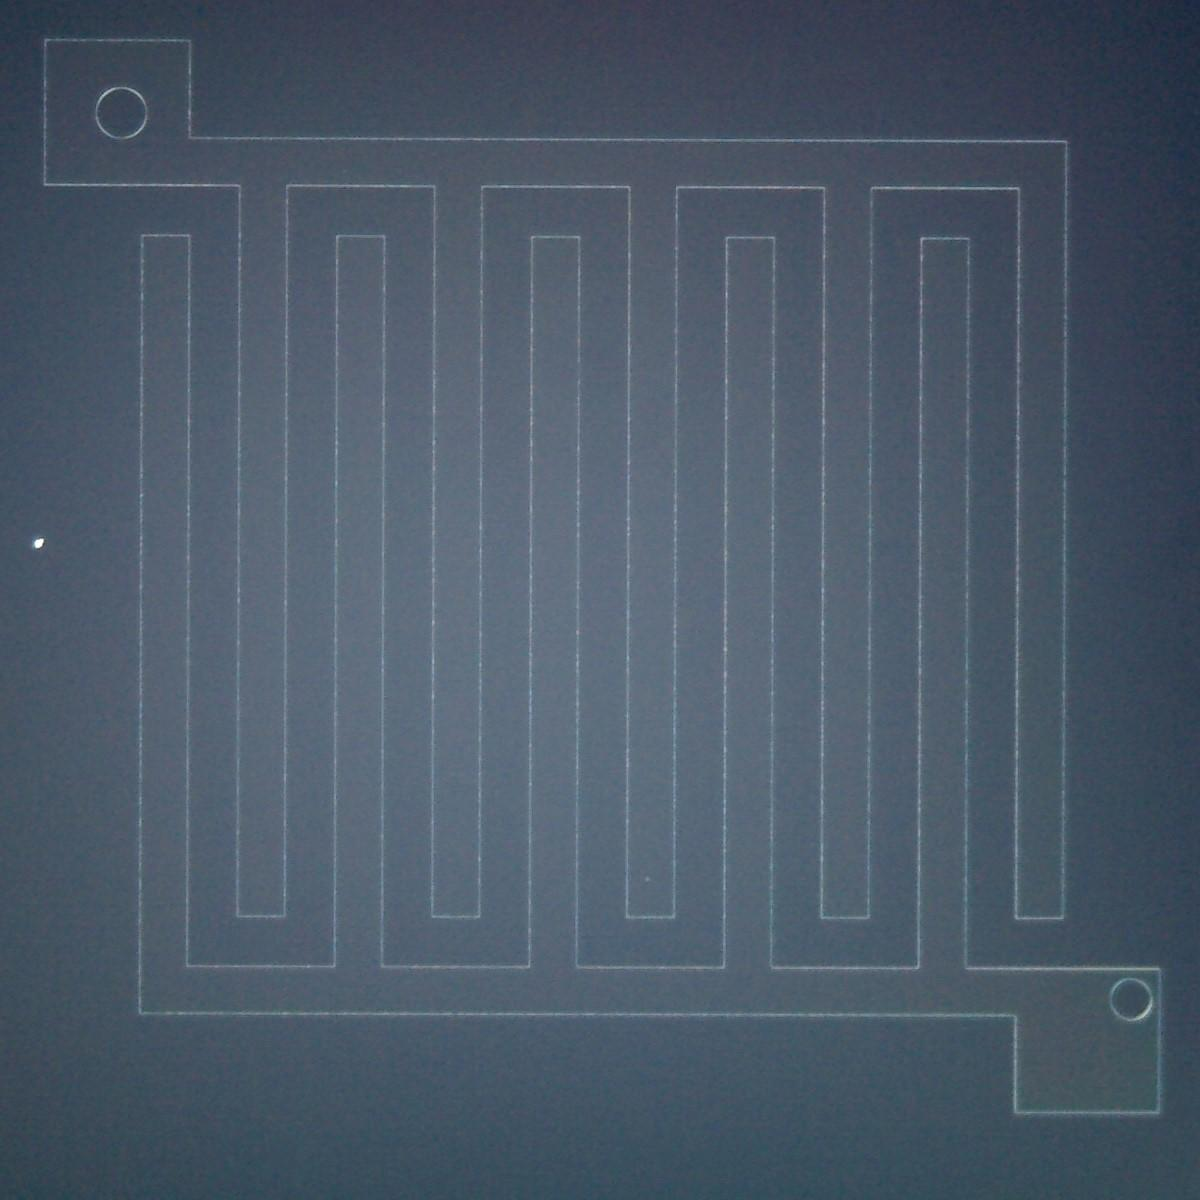B_point: (29, 535, 51, 558)
circle: (92, 81, 154, 143), (1109, 977, 1155, 1022)
